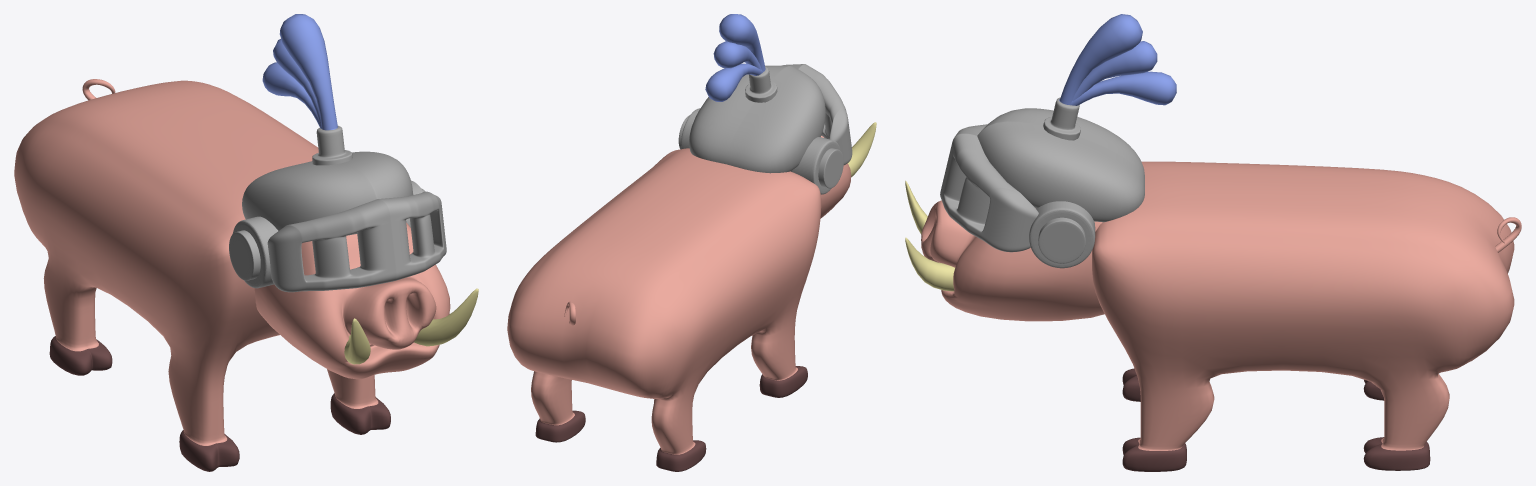
The model's file is royal_hog__cerdos_reales_-_clash_royale.glb.
3 renders of one model, left to right at view 1: azimuth 30°, elevation 25°; view 2: azimuth 150°, elevation 25°; view 3: azimuth 270°, elevation 25°, orthographic. The views are drawn at different scales.
Parts seen in each view (by area): view 1: Cube_0, Cube.001_1, Cube.003_3, Cube.004_4, Cube.006_8, Cube.002_2, Circle.001_7, Circle_6, Cube.008_10, Cube.005_5, Cube.007_9; view 2: Cube_0, Cube.004_4, Cube.003_3, Circle.001_7, Cube.006_8, Cube.008_10, Circle_6, Cube.007_9, Cube.005_5, Cube.001_1, Cube.002_2; view 3: Cube_0, Cube.004_4, Cube.001_1, Cube.003_3, Cube.006_8, Cube.008_10, Circle.001_7, Circle_6, Cube.007_9, Cube.002_2, Cube.005_5.
Part boxes in pixels (box(x1,y1,x2,y2)): Cube_0: box(14, 80, 390, 471); Cube.001_1: box(254, 222, 450, 379); Cube.003_3: box(267, 191, 446, 292); Cube.004_4: box(242, 151, 413, 235); Cube.006_8: box(279, 14, 337, 130); Cube.002_2: box(344, 288, 478, 364); Circle.001_7: box(232, 180, 423, 288); Circle_6: box(229, 188, 425, 280); Cube.008_10: box(262, 62, 336, 129); Cube.005_5: box(312, 125, 352, 165); Cube.007_9: box(273, 39, 320, 123); Cube_0: box(507, 148, 821, 471); Cube.004_4: box(689, 65, 825, 173); Cube.003_3: box(782, 64, 852, 165); Circle.001_7: box(681, 108, 840, 194); Cube.006_8: box(719, 14, 765, 71); Cube.008_10: box(705, 63, 762, 101); Circle_6: box(678, 115, 843, 188); Cube.007_9: box(713, 41, 761, 69); Cube.005_5: box(745, 66, 777, 102); Cube.001_1: box(820, 136, 851, 218); Cube.002_2: box(848, 122, 876, 177); Cube_0: box(1092, 161, 1514, 471); Cube.004_4: box(977, 108, 1144, 222); Cube.001_1: box(921, 200, 1104, 321); Cube.003_3: box(940, 124, 1038, 252); Cube.006_8: box(1060, 14, 1142, 104); Cube.008_10: box(1059, 71, 1176, 105); Circle.001_7: box(1029, 201, 1095, 268); Circle_6: box(1038, 217, 1085, 263); Cube.007_9: box(1072, 41, 1157, 100); Cube.002_2: box(905, 180, 954, 291); Cube.005_5: box(1043, 97, 1080, 140).
Size of the model in its own units: 2.9 by 5.46 by 7.38.
